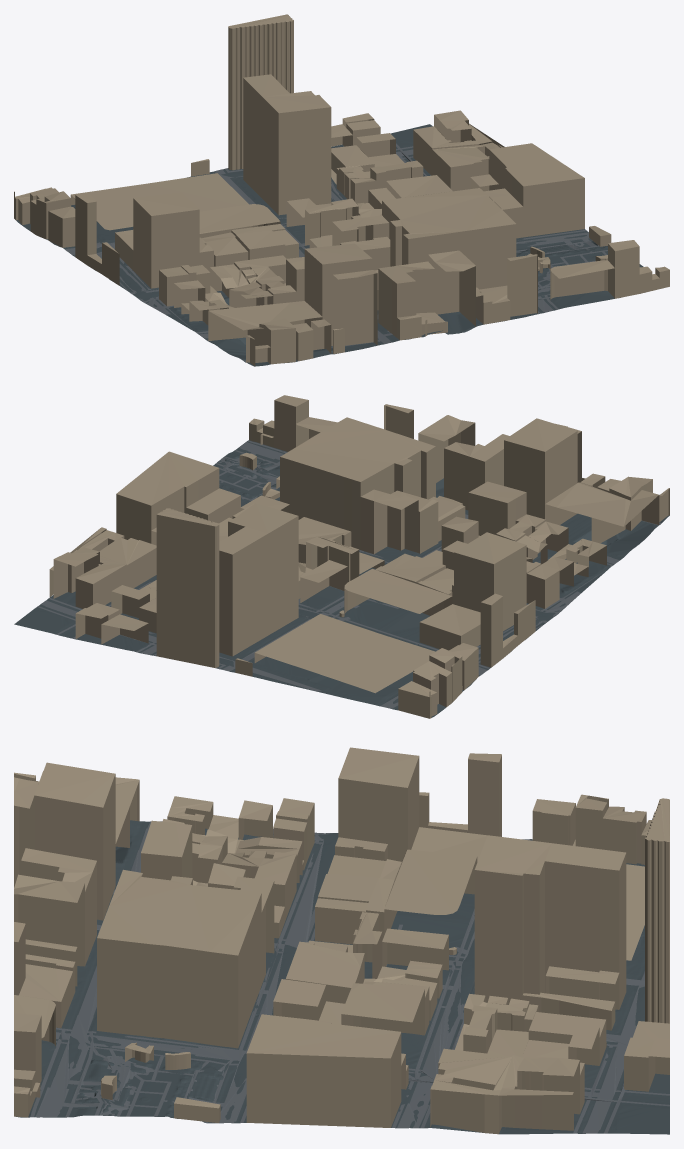
The model's file is epsg26910-1437-10891.lod0.glb.
The picture shows the model from 3 angles, top to bottom: view 1: azimuth 30°, elevation 25°; view 2: azimuth 150°, elevation 25°; view 3: azimuth 270°, elevation 25°; orthographic projection. The views are drawn at different scales.
Visible parts, largest first — view 1: epsg26910-1437-10891-lod0; view 2: epsg26910-1437-10891-lod0; view 3: epsg26910-1437-10891-lod0.
Boxes of the visible parts, x1,y1,x2,y2 form: epsg26910-1437-10891-lod0: (14,14,669,366); epsg26910-1437-10891-lod0: (14,395,669,718); epsg26910-1437-10891-lod0: (14,747,669,1134).
Bounding box in the file's own units: 384 × 130 × 384.
